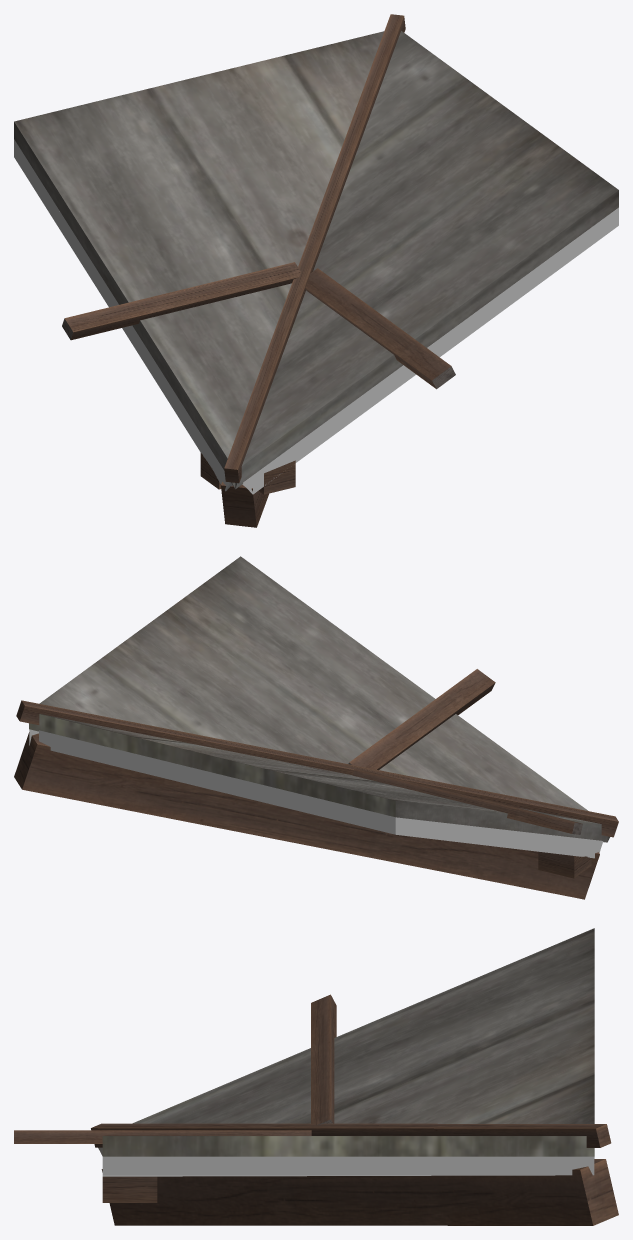
The model's file is itabuki_2x1t_a1corner_cav.fbx.
The picture shows the model from 3 angles, top to bottom: view 1: azimuth 30°, elevation 25°; view 2: azimuth 150°, elevation 25°; view 3: azimuth 270°, elevation 25°; orthographic projection. The views are drawn at different scales.
Visible parts, largest first — view 1: itabuki_2x1t_a1corner_cav; view 2: itabuki_2x1t_a1corner_cav; view 3: itabuki_2x1t_a1corner_cav.
Part boxes in pixels (left/top/right/bottom): itabuki_2x1t_a1corner_cav: left=14, top=14, right=618, bottom=527; itabuki_2x1t_a1corner_cav: left=14, top=556, right=618, bottom=899; itabuki_2x1t_a1corner_cav: left=14, top=928, right=618, bottom=1225.
Size of the model in its own units: 192 by 104 by 194.
